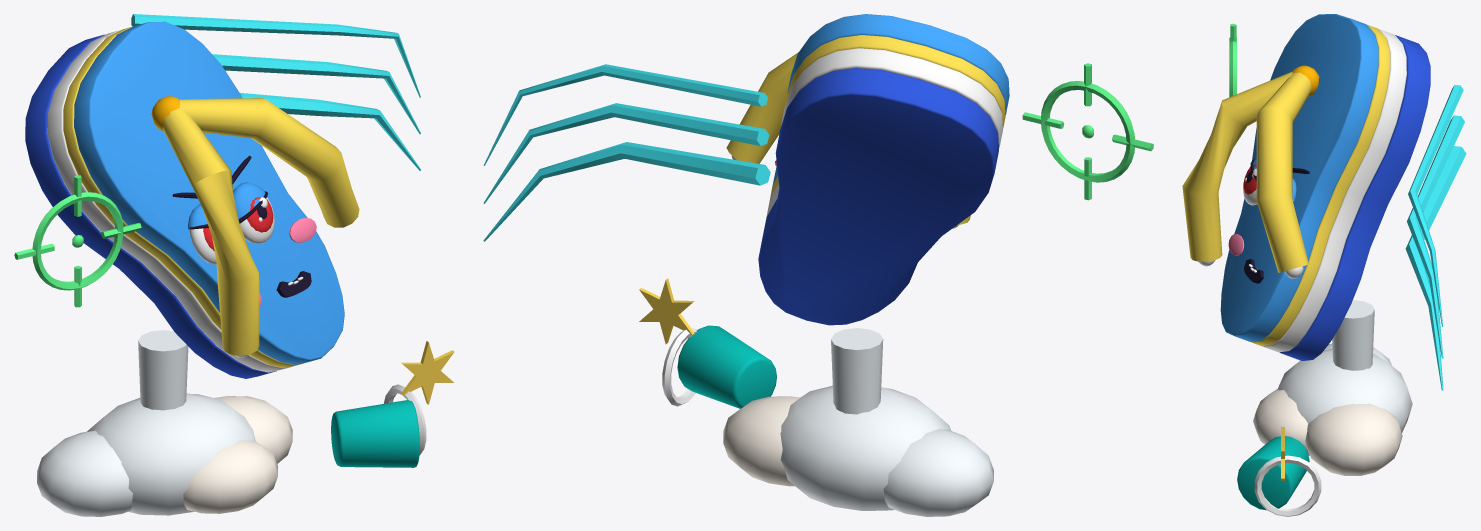
The model's file is chancla_teledirigida.fbx.
3 renders of one model, left to right at view 1: azimuth 30°, elevation 25°; view 2: azimuth 150°, elevation 25°; view 3: azimuth 270°, elevation 25°, orthographic. The views are drawn at different scales.
Visible parts, largest first — view 1: chancla_teledirigida, chancla_teledirigida_Neon; view 2: chancla_teledirigida, chancla_teledirigida_Neon; view 3: chancla_teledirigida, chancla_teledirigida_Neon.
Boxes of the visible parts, box(x1,y1,x2,y2) form: chancla_teledirigida: box(25, 21, 426, 516); chancla_teledirigida_Neon: box(14, 14, 454, 404); chancla_teledirigida: box(662, 14, 1009, 516); chancla_teledirigida_Neon: box(483, 63, 1153, 344); chancla_teledirigida: box(1182, 14, 1430, 516); chancla_teledirigida_Neon: box(1229, 23, 1466, 480).
Size of the model in its own units: 5.28 by 4.6 by 2.85.
2 materials, 2 textured.
